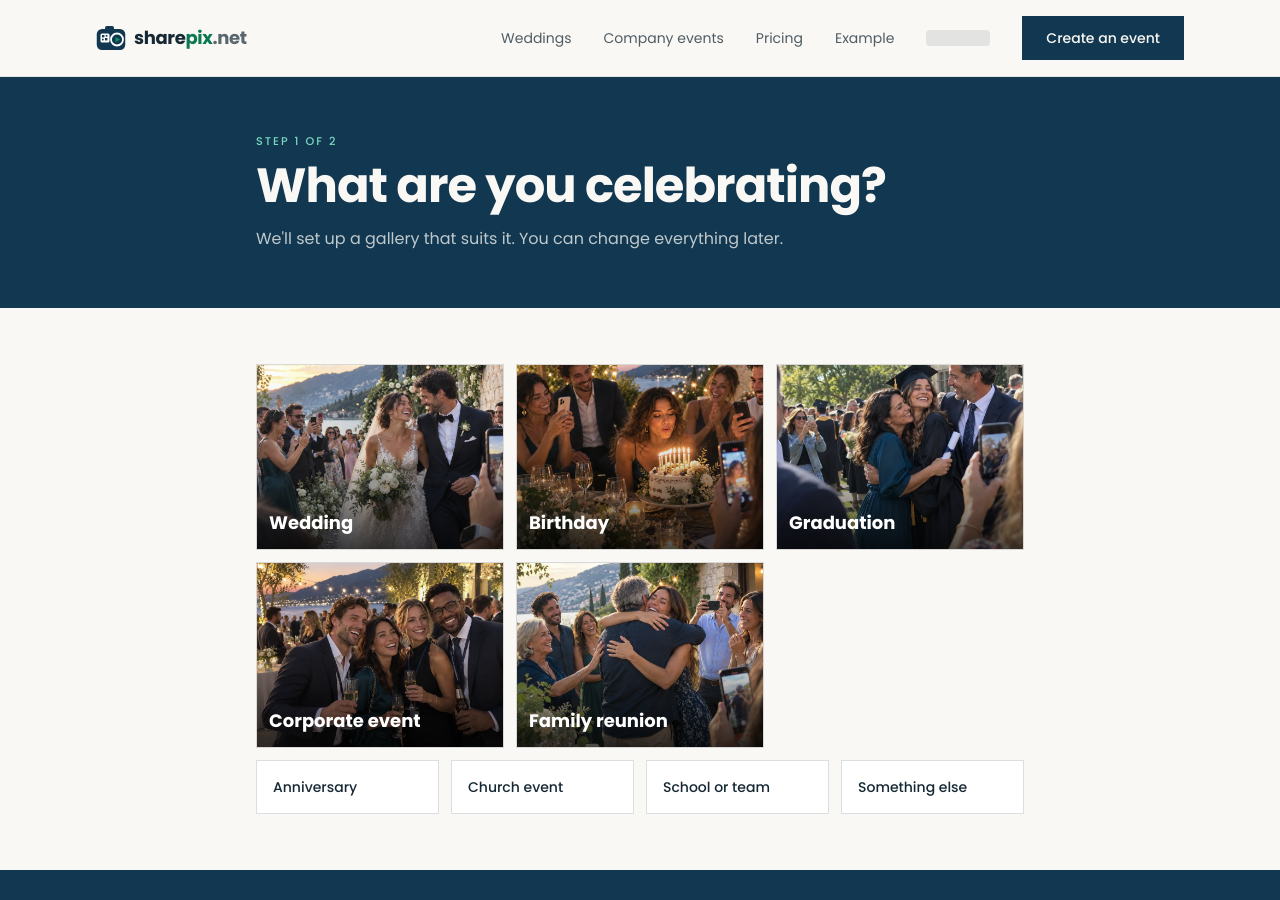
it: creating an event › asks who adds the photos only where "just me" is common
The width and height of the screenshot is (1280, 900).
Click the button "Church event" at (542, 787), box x1=451 y1=760 x2=634 y2=814
(page scrolled)
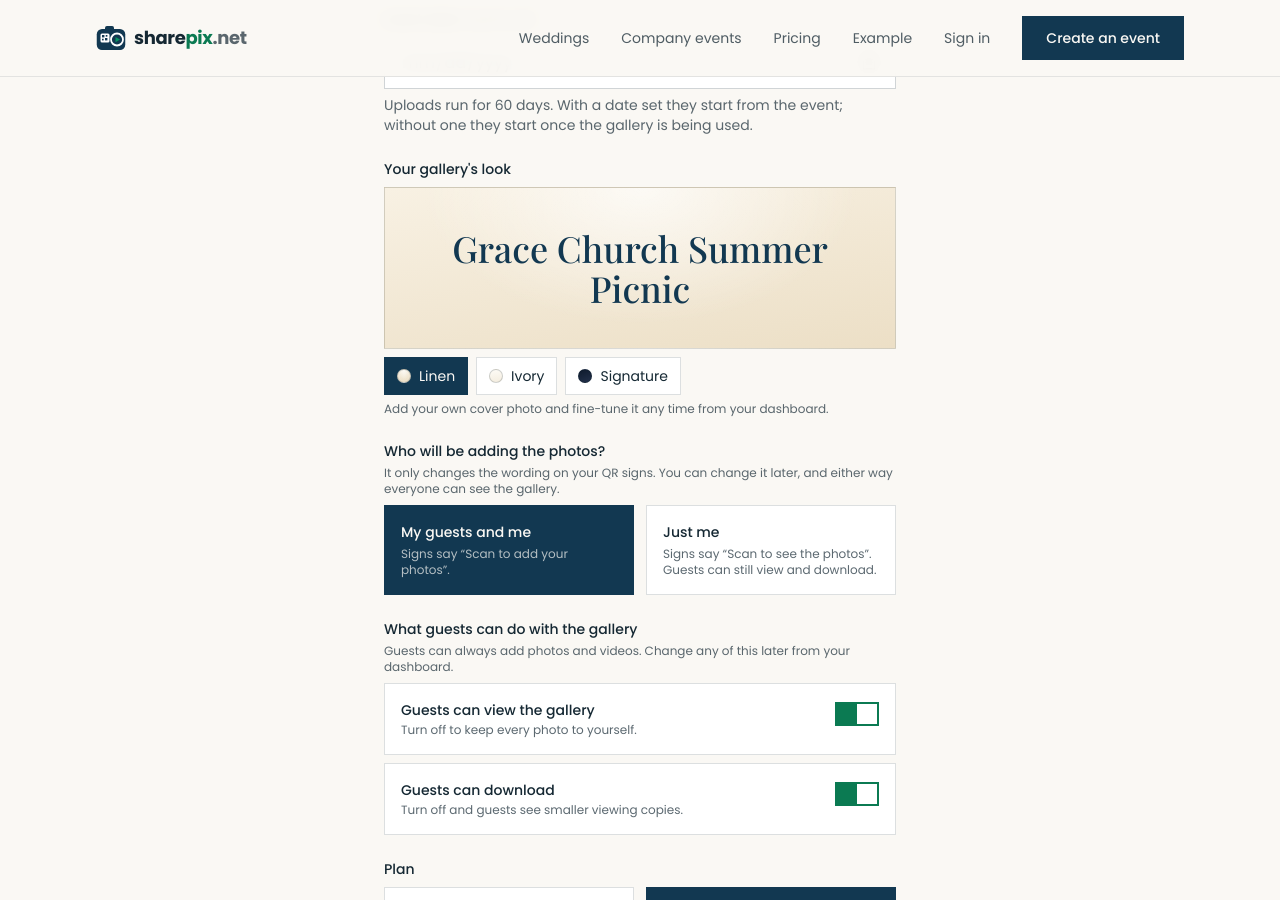
Result: the text "Who will be adding the photos?" is shown at x1=384 y1=441 x2=605 y2=461
